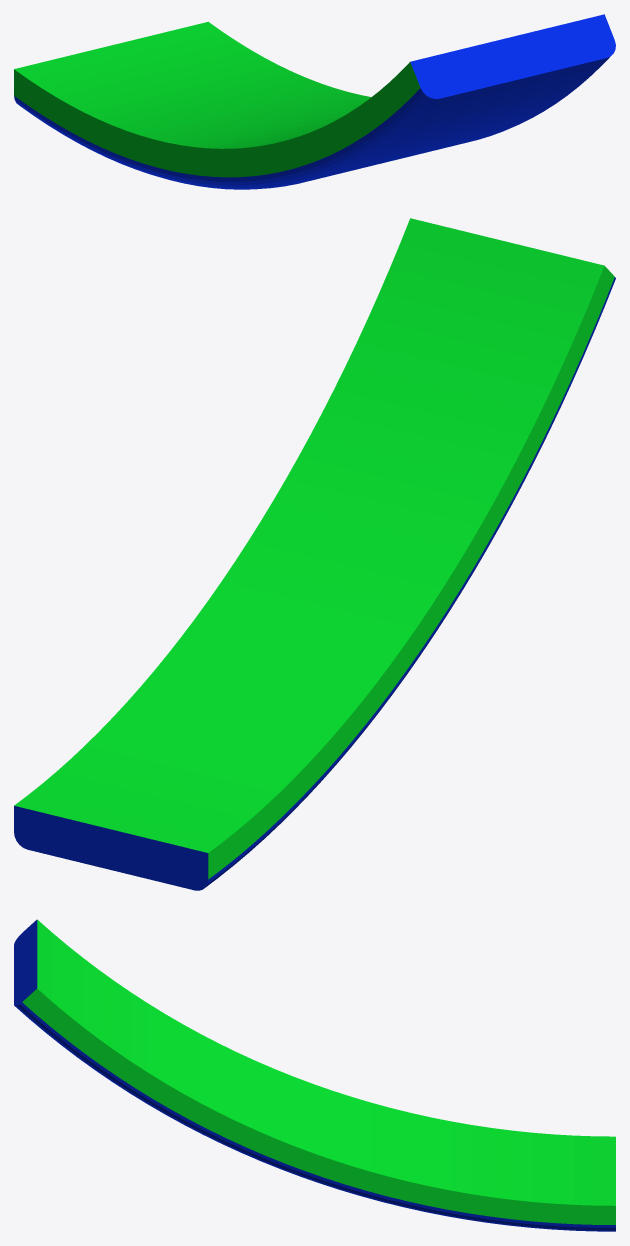
3 views of the same model, one above another, from view 1: azimuth 30°, elevation 25°; view 2: azimuth 150°, elevation 25°; view 3: azimuth 270°, elevation 25° (orthographic). The views are drawn at different scales.
Visible parts, largest first — view 1: Cube.001; view 2: Cube.001; view 3: Cube.001.
Part boxes in pixels (<box>): Cube.001: <box>14,14,615,189</box>; Cube.001: <box>14,218,615,890</box>; Cube.001: <box>14,919,615,1231</box>.
Size of the model in its own units: 5 by 8.31 by 18.36.
